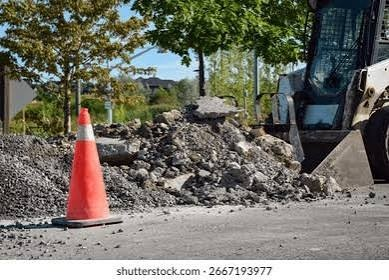safety_cone: (48, 104, 135, 233)
